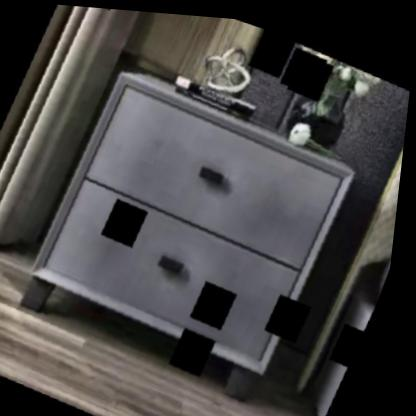Nightstand: (0, 33, 392, 416)
